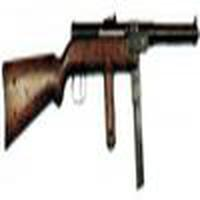gun: (2, 17, 200, 147)
